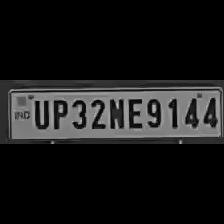1: (162, 95, 180, 129)
2: (88, 95, 106, 129)
3: (68, 95, 88, 129)
4: (198, 92, 218, 128), (180, 94, 200, 128)
9: (143, 95, 163, 129)
E: (125, 94, 143, 130)
N: (105, 94, 125, 130)
P: (48, 96, 68, 130)
U: (31, 95, 50, 129)
